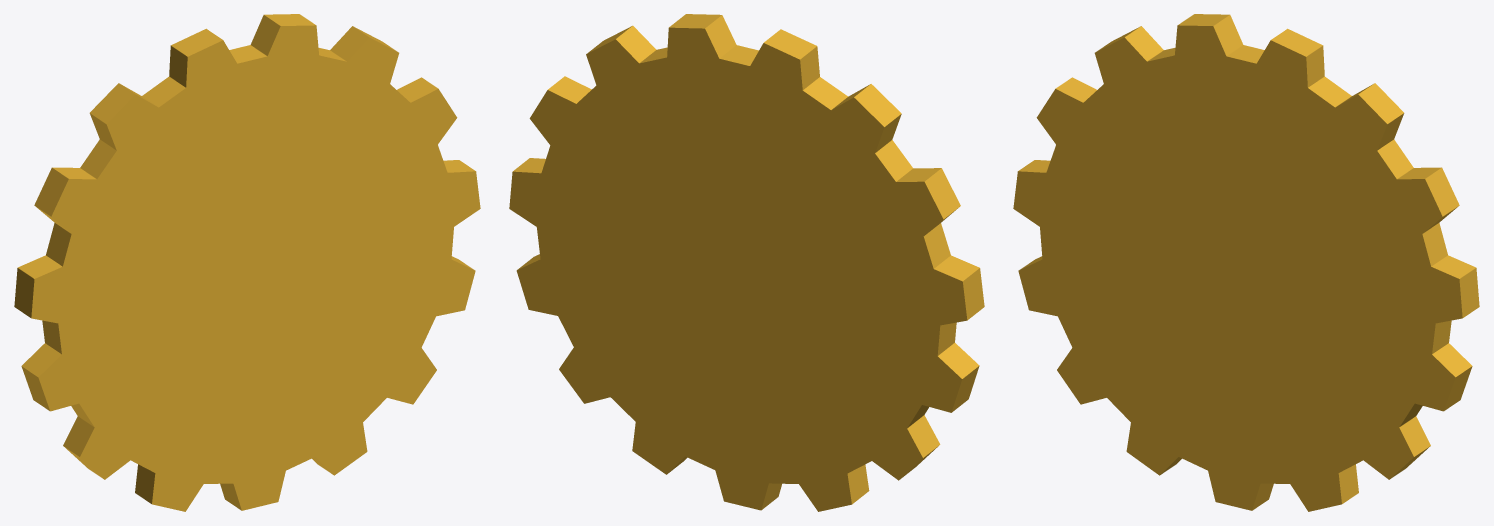
The model's file is haguruma_s1.fbx.
3 views of the same model, side by side, from view 1: azimuth 30°, elevation 25°; view 2: azimuth 150°, elevation 25°; view 3: azimuth 330°, elevation 25° (orthographic).
Parts seen in each view (by area): view 1: Cylinder001; view 2: Cylinder001; view 3: Cylinder001.
Part boxes in pixels (x1,y1,x2,y2): Cylinder001: (14,14,480,511); Cylinder001: (509,14,984,511); Cylinder001: (1013,14,1479,511).
Size of the model in its own units: 54.89 by 54.68 by 5.33.
